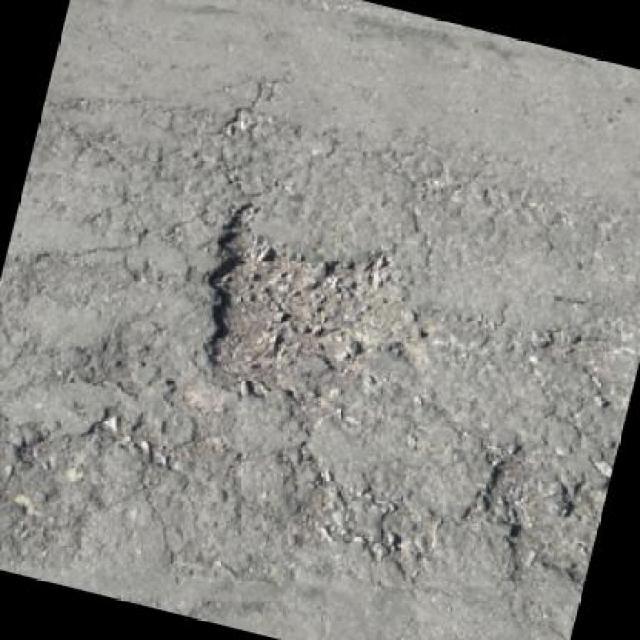pothole1: (170, 190, 428, 430), (464, 441, 568, 570)
